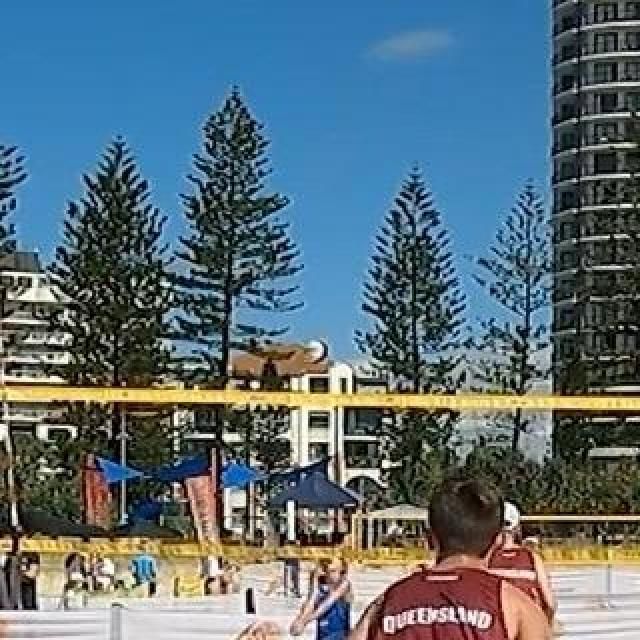volleyball: (304, 339, 328, 363)
